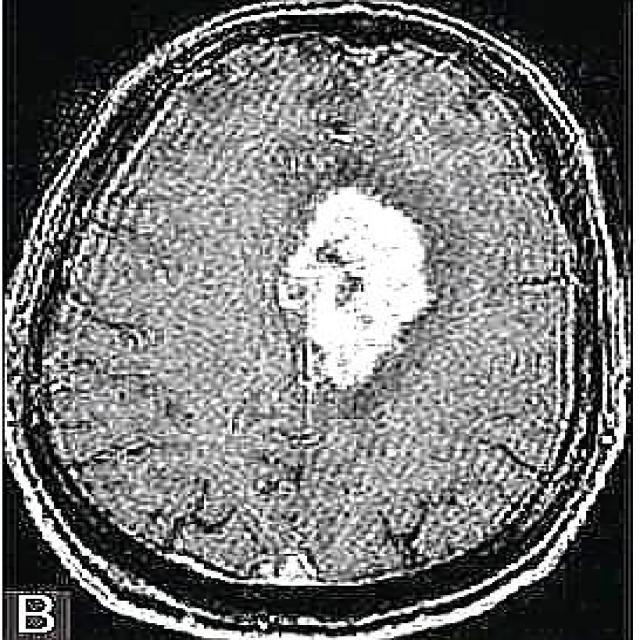brain tumor: (279, 187, 431, 391)
